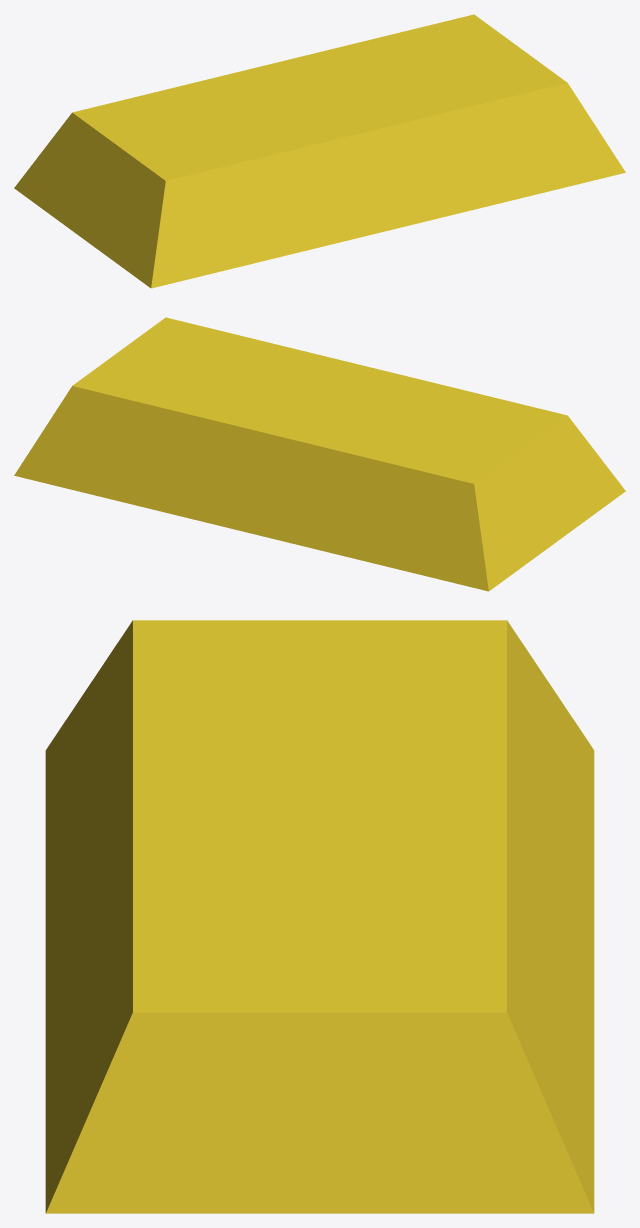
File: bar_basic.fbx
3 renders of one model, top to bottom at view 1: azimuth 30°, elevation 25°; view 2: azimuth 150°, elevation 25°; view 3: azimuth 270°, elevation 25°, orthographic. The views are drawn at different scales.
Parts seen in each view (by area): view 1: Cube; view 2: Cube; view 3: Cube.
Boxes of the visible parts, bbox=[...] form: Cube: bbox=[14, 14, 625, 288]; Cube: bbox=[14, 317, 625, 591]; Cube: bbox=[45, 620, 594, 1213].
Size of the model in its own units: 400 by 66.63 by 200.
